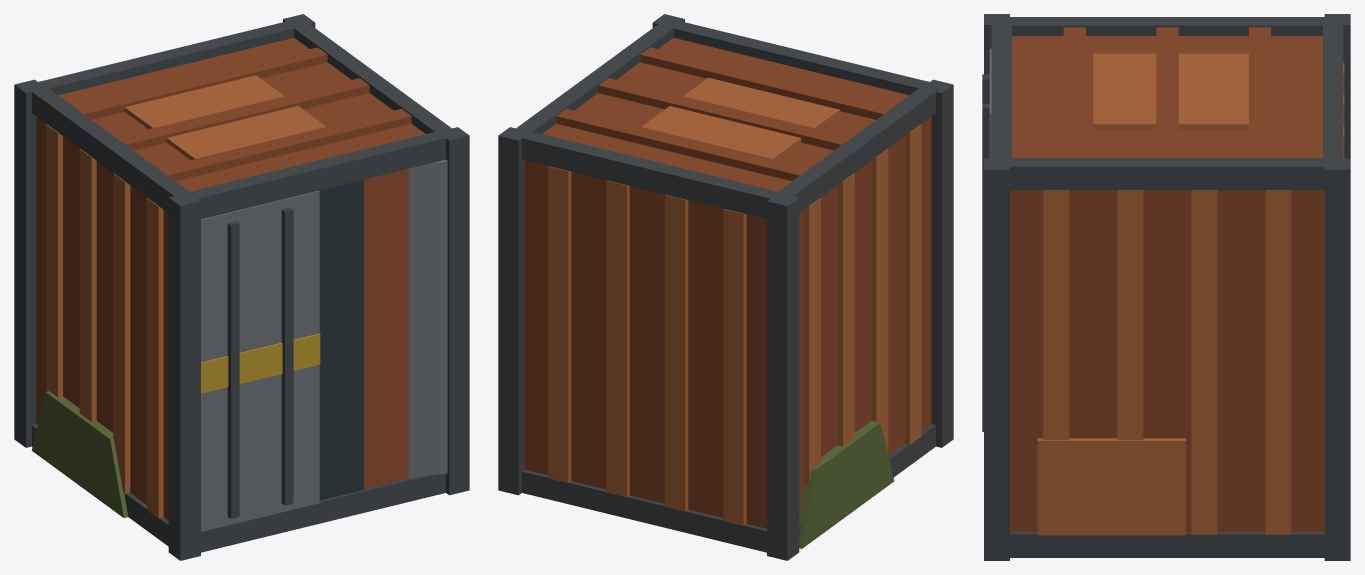
File: cover_high_container.glb
3 views of the same model, side by side, from view 1: azimuth 30°, elevation 25°; view 2: azimuth 150°, elevation 25°; view 3: azimuth 270°, elevation 25° (orthographic). The views are drawn at different scales.
Parts seen in each view (by area): view 1: cover_mesh; view 2: cover_mesh; view 3: cover_mesh.
Part boxes in pixels (bbox=[...]): cover_mesh: bbox=[14, 14, 469, 560]; cover_mesh: bbox=[498, 14, 953, 560]; cover_mesh: bbox=[982, 14, 1350, 560].
Bounding box in the file's own units: 1.98 × 2.32 × 1.98.
